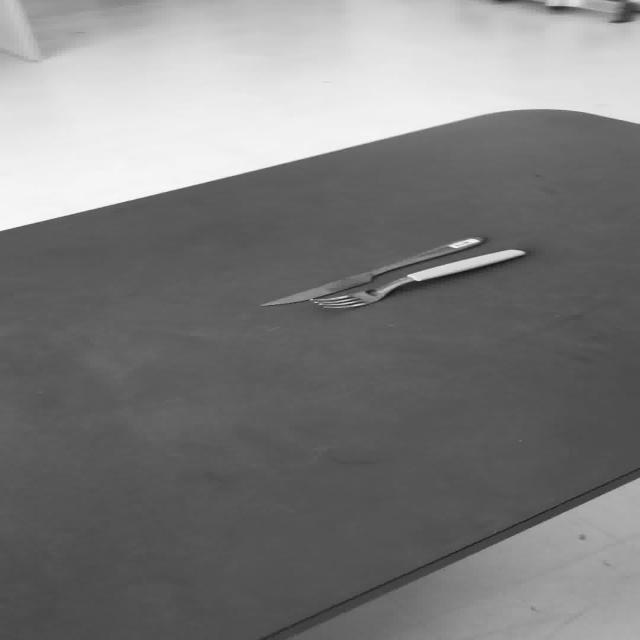fork: (310, 247, 526, 309)
knife fork: (257, 236, 484, 306), (310, 247, 526, 309)
